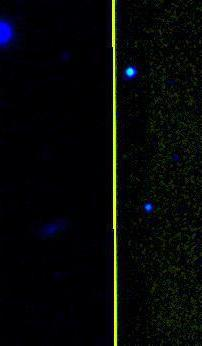star: (0, 17, 26, 47)
